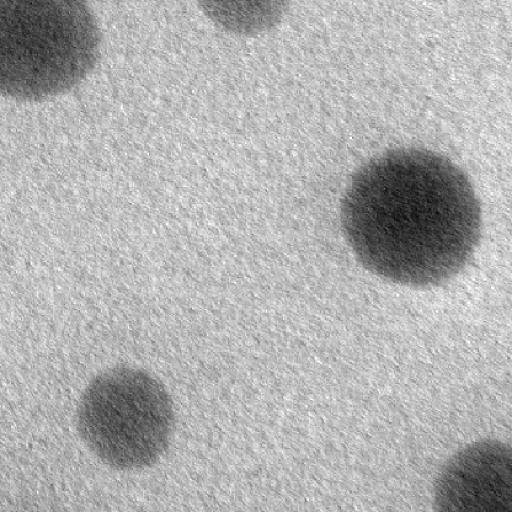Nanoparticles: (338, 146, 478, 281), (77, 364, 176, 468), (2, 2, 98, 99), (434, 437, 512, 510), (198, 1, 290, 36)
